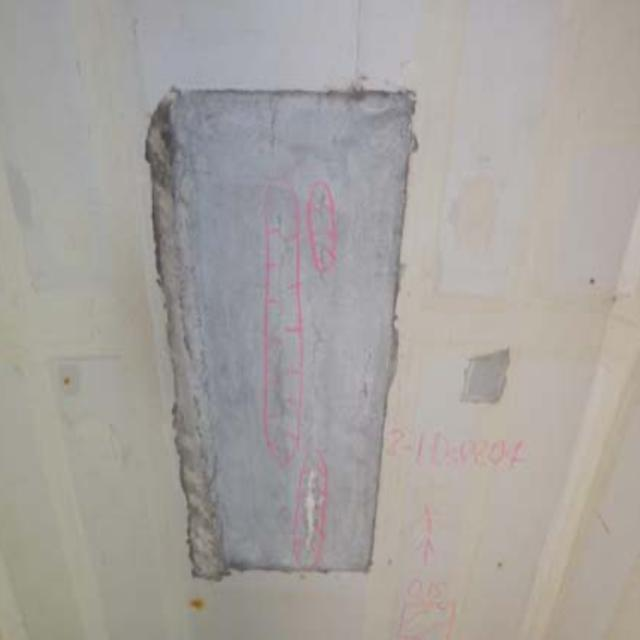spalling: (127, 77, 389, 587), (452, 340, 532, 410)
